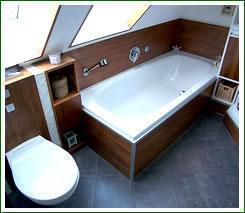Sanitario: (4, 123, 90, 210)
